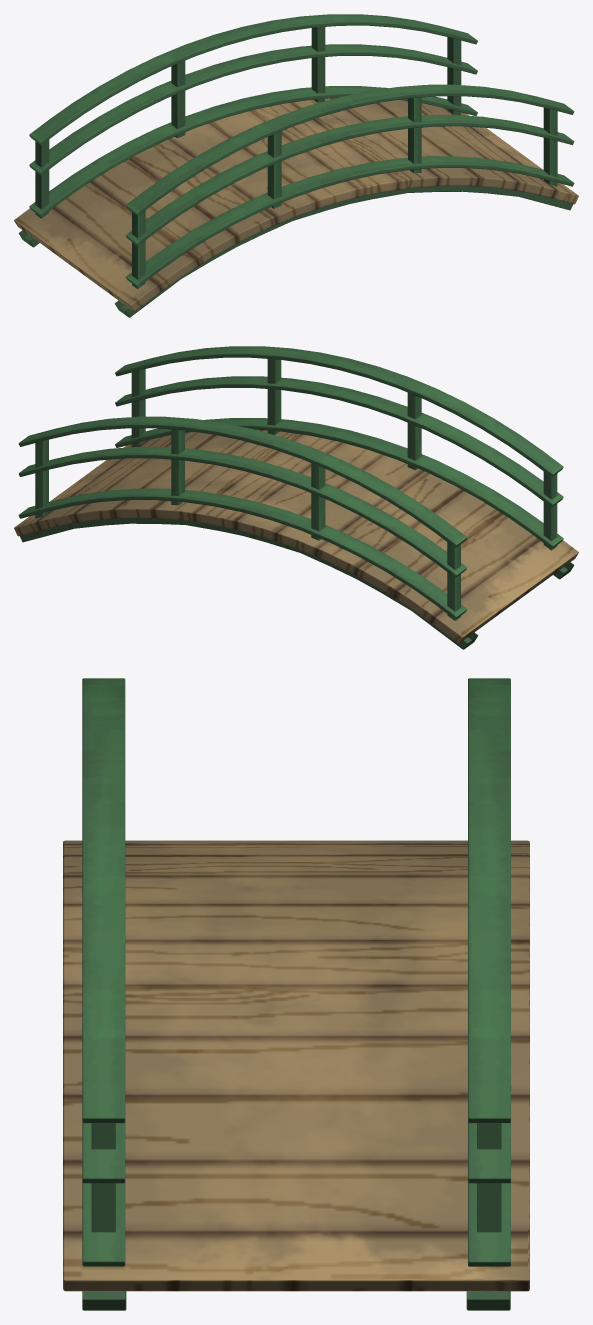
File: bridge2.fbx
3 views of the same model, one above another, from view 1: azimuth 30°, elevation 25°; view 2: azimuth 150°, elevation 25°; view 3: azimuth 270°, elevation 25° (orthographic). The views are drawn at different scales.
Parts seen in each view (by area): view 1: polySurface398; view 2: polySurface398; view 3: polySurface398.
Part boxes in pixels (left/top/right/bottom): polySurface398: left=14, top=14, right=578, bottom=317; polySurface398: left=14, top=346, right=578, bottom=649; polySurface398: left=63, top=678, right=529, bottom=1310.
Size of the model in its own units: 79.69 by 27.03 by 35.83.
1 material, 1 textured.
